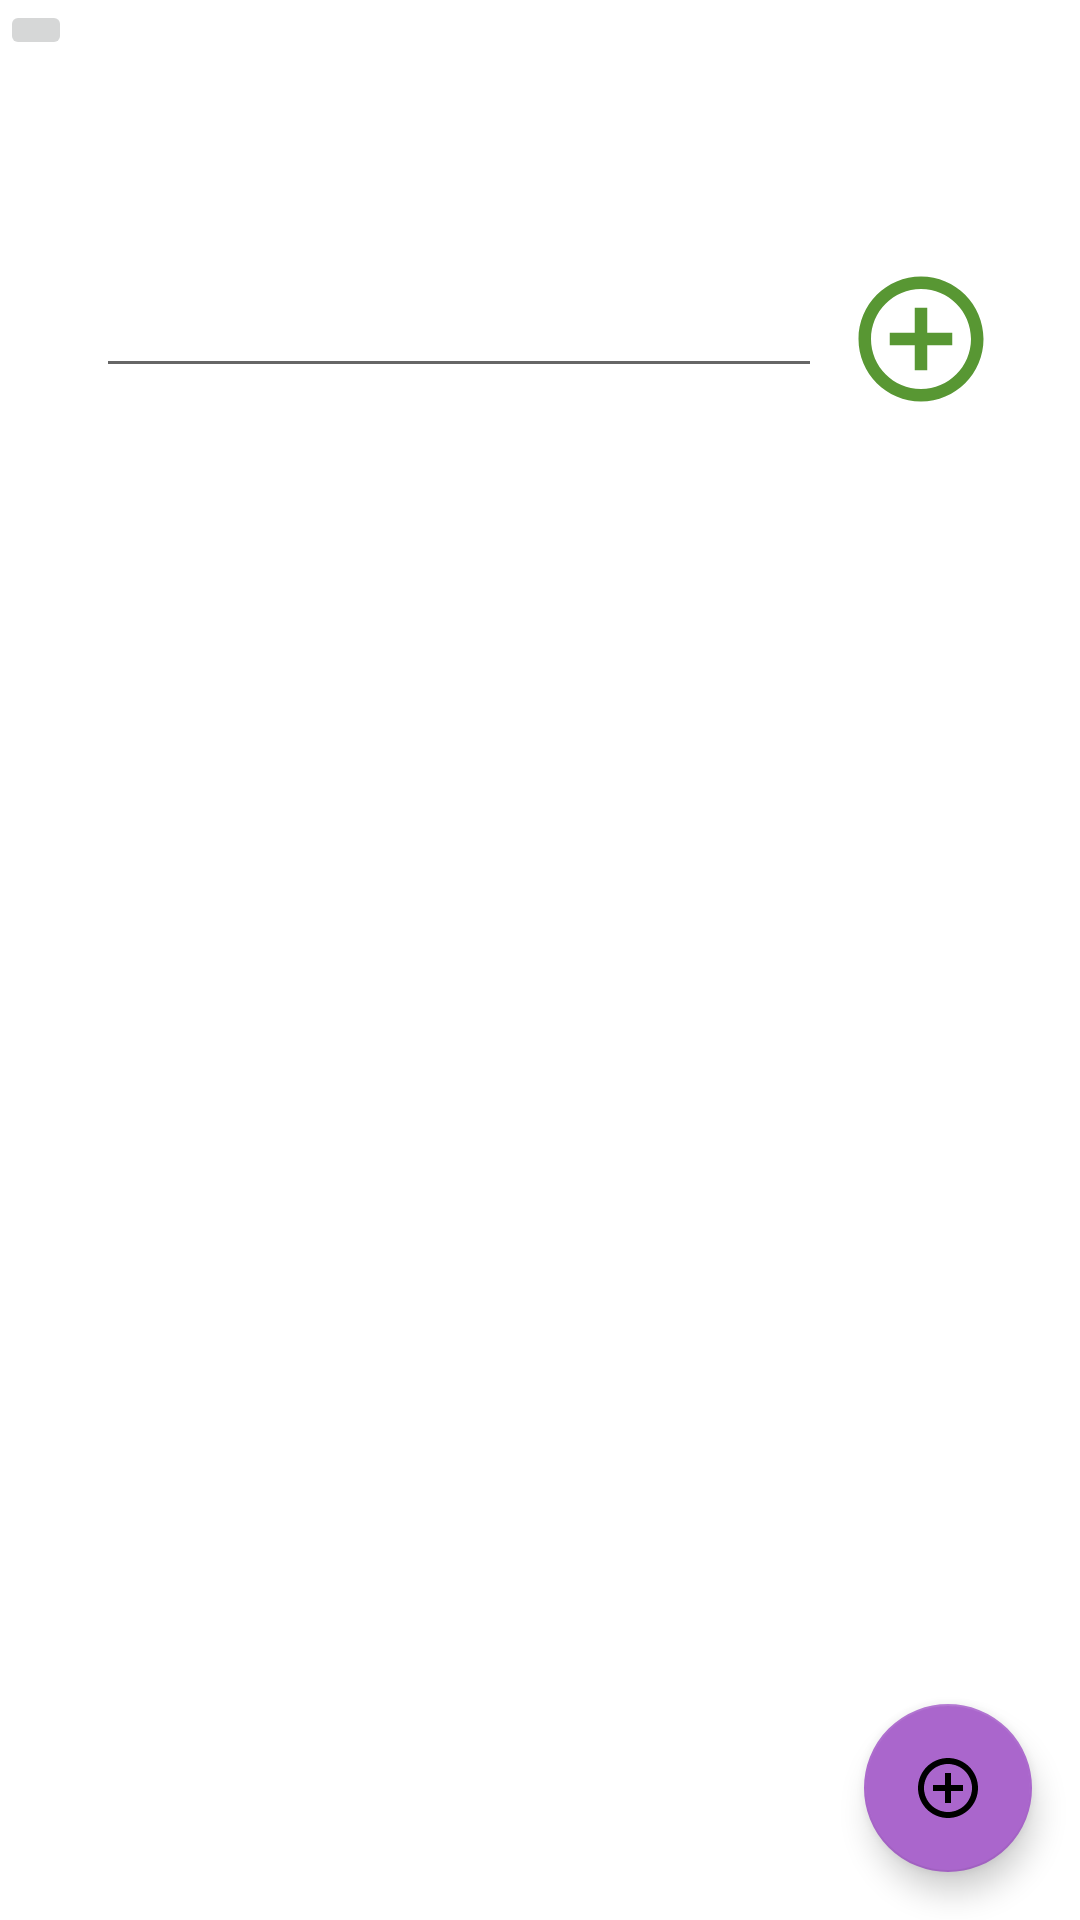

Icons on this 1080 x 1920 Android screen, each with the point to tap as (x=x, y=y):
add circle: (x=921, y=339), (x=948, y=1788)
